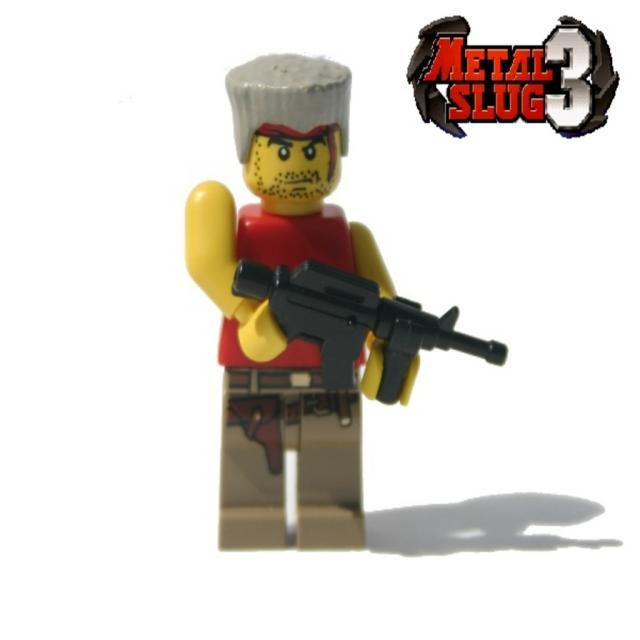weapon: (230, 259, 509, 406)
